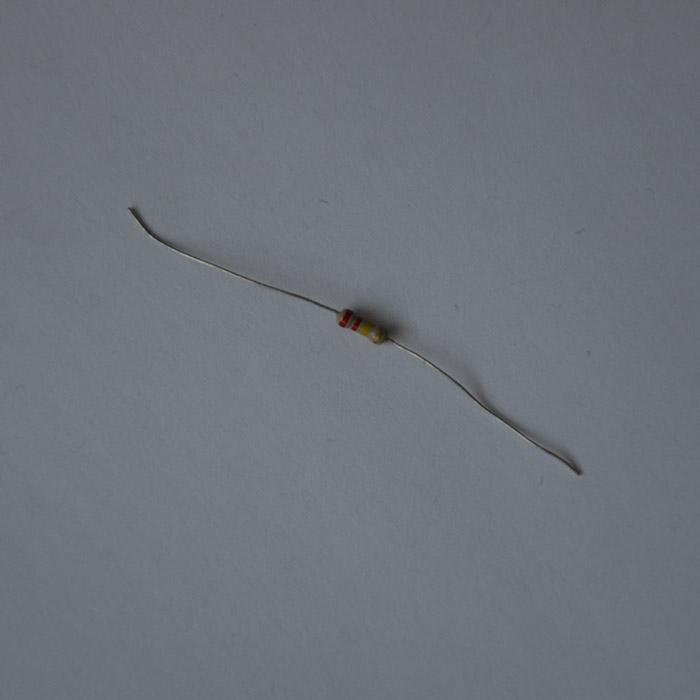resistor: (336, 307, 386, 345)
